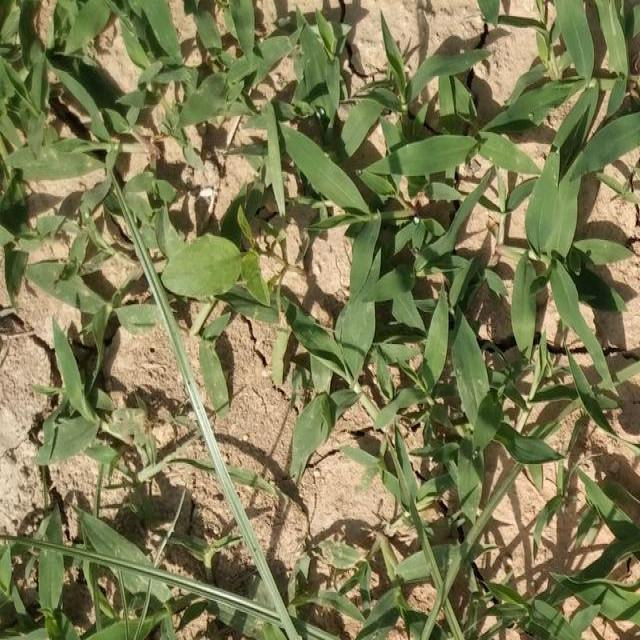weed: (278, 137, 624, 387), (112, 195, 286, 640), (7, 0, 300, 126), (396, 433, 486, 640), (548, 2, 640, 138)
